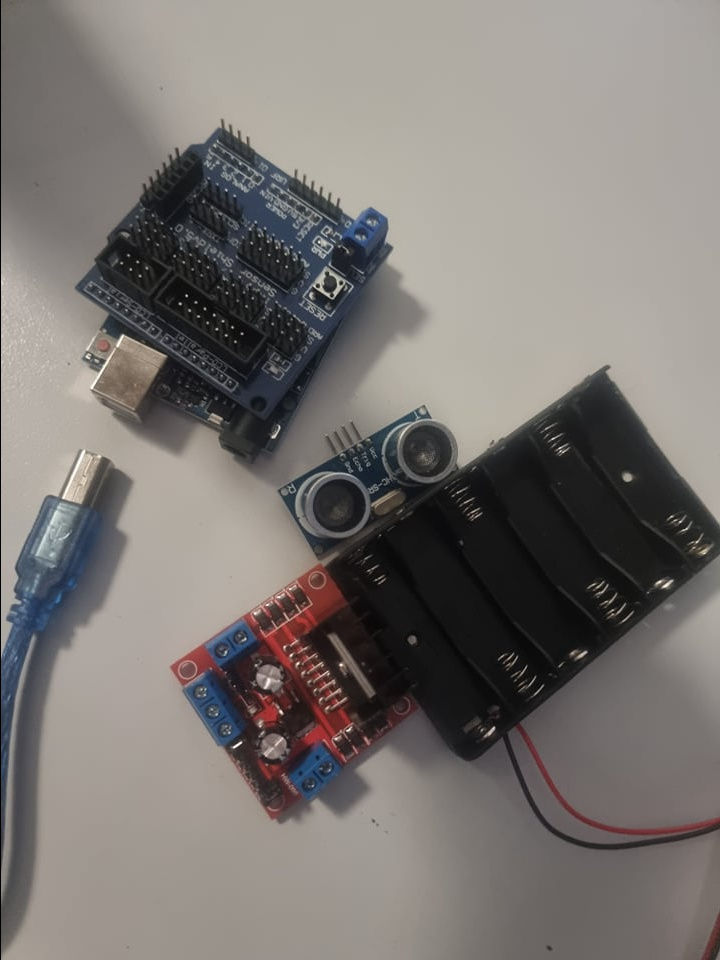5V EXPANSION: (68, 115, 393, 340)
BATTERY BOX: (380, 367, 719, 768)
MOTOR: (162, 564, 423, 823)
SENSOR: (277, 406, 456, 554)
UNO R3: (30, 340, 275, 474)
